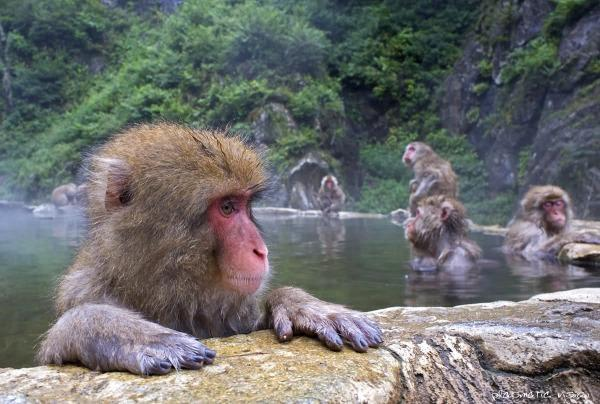monkey: (35, 122, 384, 378)
